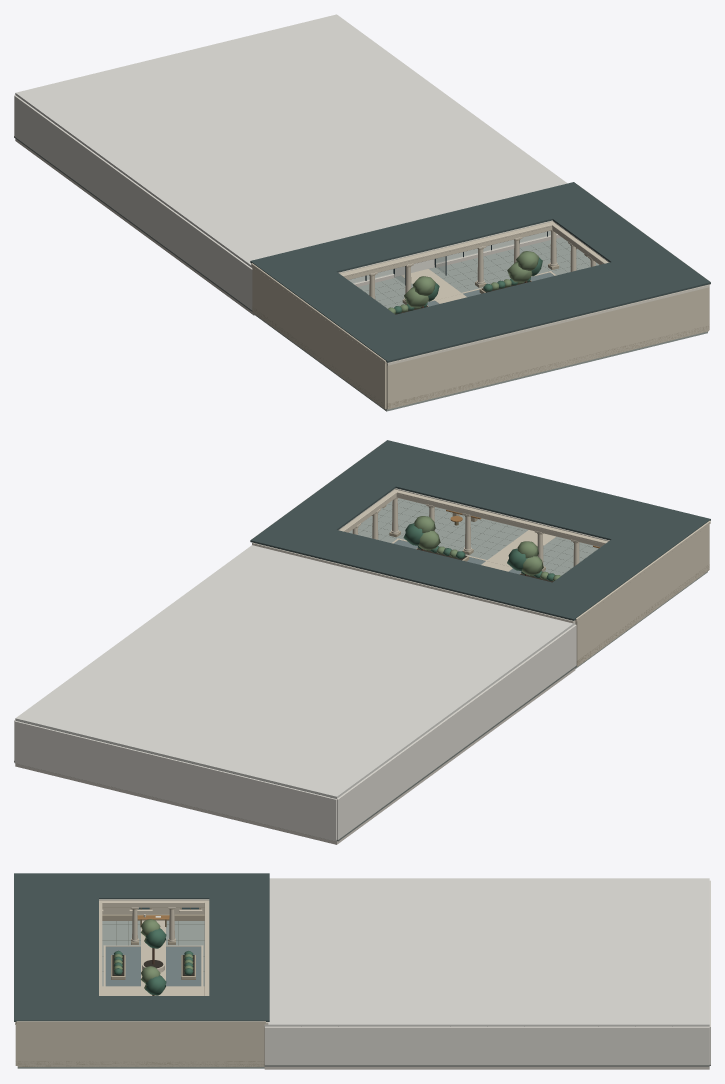
Rendered from precinct-courtyard.glb.
3 views of the same model, one above another, from view 1: azimuth 30°, elevation 25°; view 2: azimuth 150°, elevation 25°; view 3: azimuth 270°, elevation 25° (orthographic). The views are drawn at different scales.
Parts seen in each view (by area): view 1: Courtyard runtime | White acoustic ceiling, Courtyard runtime | Court roof slate, Courtyard runtime | Court limestone light, Courtyard runtime | Warm white plaster, Courtyard runtime | Court bluestone light, Courtyard runtime | Court limestone shade, Courtyard runtime | Court pale plaster, Courtyard runtime | Court planting sage, Courtyard runtime | Warm limestone, Courtyard runtime | Honed terrazzo, Courtyard runtime | Glazing; view 2: Courtyard runtime | White acoustic ceiling, Courtyard runtime | Court roof slate, Courtyard runtime | Warm white plaster, Courtyard runtime | Court limestone light, Courtyard runtime | Court bluestone light, Courtyard runtime | Warm limestone, Courtyard runtime | Court pale plaster, Courtyard runtime | Court planting sage, Courtyard runtime | Court planting dark, Courtyard runtime | Court limestone shade, Courtyard runtime | Terrazzo border; view 3: Courtyard runtime | White acoustic ceiling, Courtyard runtime | Court roof slate, Courtyard runtime | Warm white plaster, Courtyard runtime | Court limestone light, Courtyard runtime | Court bluestone light, Courtyard runtime | Court bluestone, Courtyard runtime | Warm limestone, Courtyard runtime | Court limestone shade, Courtyard runtime | Court planting dark, Courtyard runtime | Terrazzo border, Courtyard runtime | Court planting sage, Courtyard runtime | Soil.
Boxes of the visible parts, bbox=[...] form: Courtyard runtime | White acoustic ceiling: bbox=[15, 14, 567, 267]; Courtyard runtime | Court roof slate: bbox=[250, 182, 710, 362]; Courtyard runtime | Court limestone light: bbox=[251, 184, 710, 409]; Courtyard runtime | Warm white plaster: bbox=[14, 95, 252, 309]; Courtyard runtime | Court bluestone light: bbox=[254, 237, 707, 411]; Courtyard runtime | Court limestone shade: bbox=[252, 230, 708, 409]; Courtyard runtime | Court pale plaster: bbox=[338, 220, 709, 365]; Courtyard runtime | Court planting sage: bbox=[388, 251, 539, 313]; Courtyard runtime | Warm limestone: bbox=[15, 139, 561, 315]; Courtyard runtime | Honed terrazzo: bbox=[348, 231, 550, 283]; Courtyard runtime | Glazing: bbox=[349, 231, 550, 284]; Courtyard runtime | White acoustic ceiling: bbox=[15, 545, 575, 798]; Courtyard runtime | Court roof slate: bbox=[250, 440, 710, 620]; Courtyard runtime | Warm white plaster: bbox=[14, 624, 576, 841]; Courtyard runtime | Court limestone light: bbox=[251, 443, 710, 666]; Courtyard runtime | Court bluestone light: bbox=[349, 498, 707, 668]; Courtyard runtime | Warm limestone: bbox=[15, 668, 575, 844]; Courtyard runtime | Court pale plaster: bbox=[252, 488, 609, 623]; Courtyard runtime | Court planting sage: bbox=[414, 516, 560, 580]; Courtyard runtime | Court planting dark: bbox=[403, 523, 554, 580]; Courtyard runtime | Court limestone shade: bbox=[355, 498, 709, 666]; Courtyard runtime | Terrazzo border: bbox=[14, 665, 576, 841]; Courtyard runtime | White acoustic ceiling: bbox=[264, 878, 709, 1026]; Courtyard runtime | Court roof slate: bbox=[14, 873, 269, 1021]; Courtyard runtime | Warm white plaster: bbox=[264, 880, 710, 1065]; Courtyard runtime | Court limestone light: bbox=[15, 900, 265, 1066]; Courtyard runtime | Court bluestone light: bbox=[17, 921, 264, 1068]; Courtyard runtime | Court bluestone: bbox=[105, 946, 201, 986]; Courtyard runtime | Warm limestone: bbox=[264, 1066, 709, 1069]; Courtyard runtime | Court limestone shade: bbox=[15, 907, 264, 1066]; Courtyard runtime | Court planting dark: bbox=[114, 928, 193, 995]; Courtyard runtime | Terrazzo border: bbox=[264, 1065, 710, 1066]; Courtyard runtime | Court planting sage: bbox=[114, 919, 193, 988]; Courtyard runtime | Soil: bbox=[112, 955, 194, 975].
Bounding box in the file's own units: 28.38 × 4.72 × 56.4.
